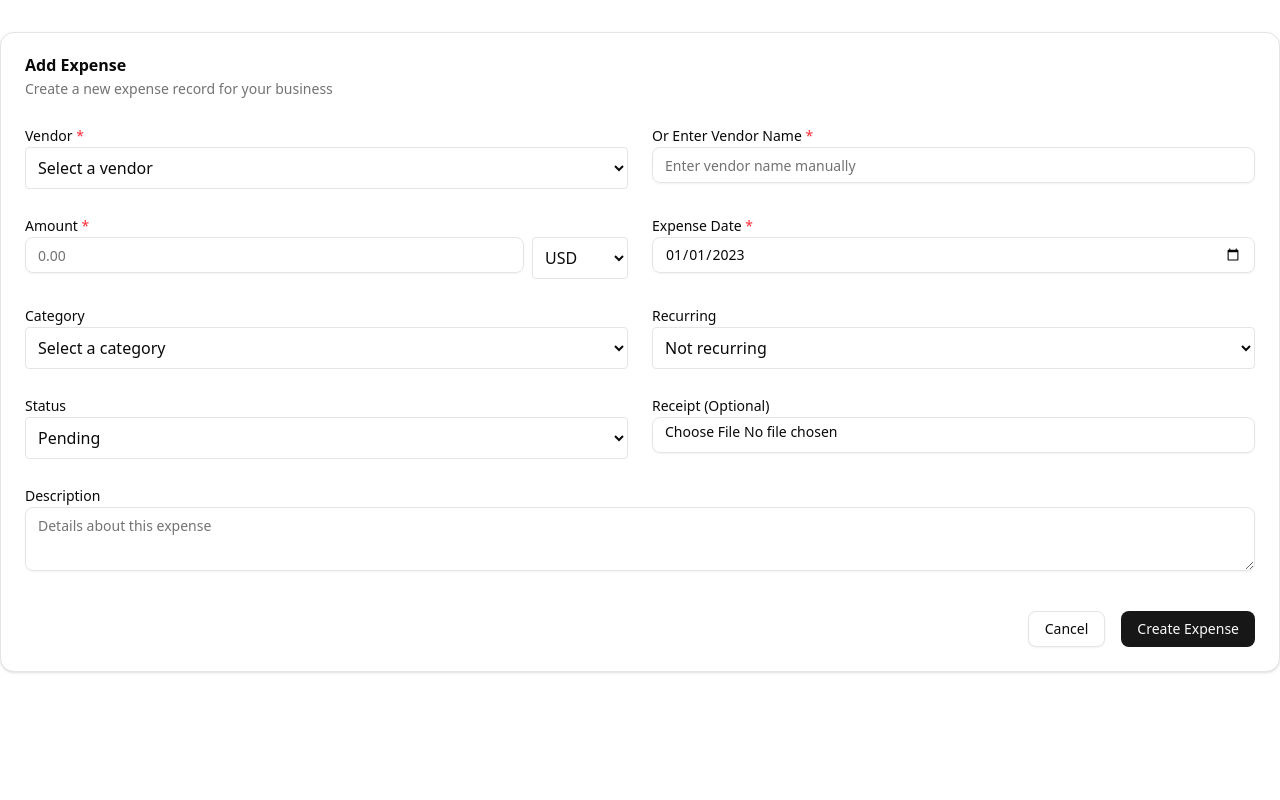
Test: ExpenseForm › shows next due date field when recurring is not "none"
Expected: the text "Next Due Date" is not shown
# Find the recurring select by label
Select "Monthly" in the dropdown labelled "Recurring": [954, 348] box 652,327 -> 1255,369
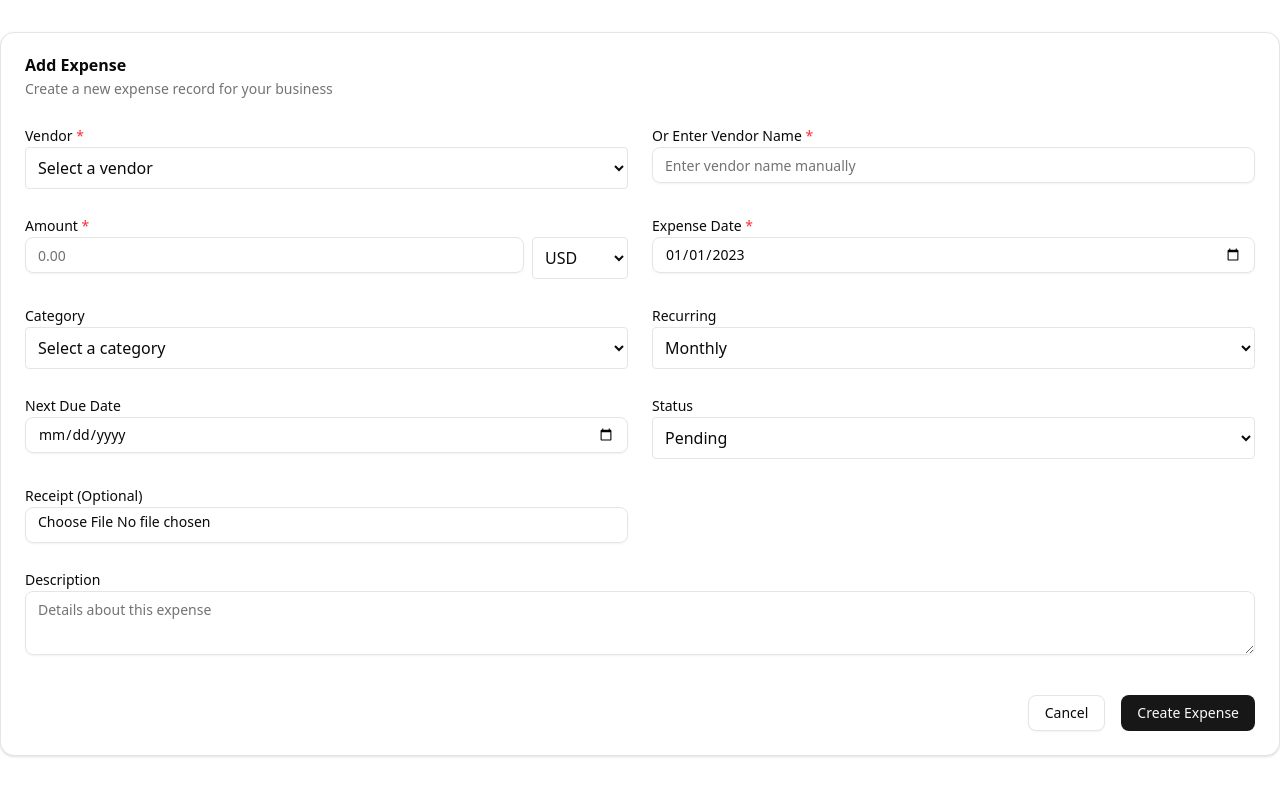
Now the text "Next Due Date" is shown, box 25,396 -> 121,415
